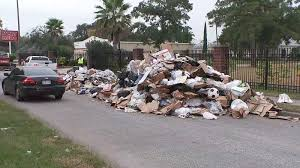garbage: (130, 58, 218, 116), (67, 69, 220, 98), (170, 78, 256, 113)
